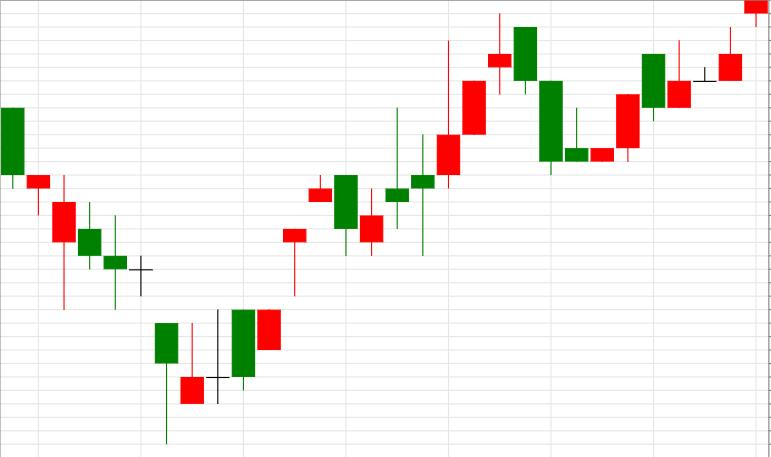bearish_engulfing_fall: (181, 174, 358, 405)
hammer_rise: (1, 107, 178, 443)
inverse_hammer_rise: (1, 108, 203, 444)
